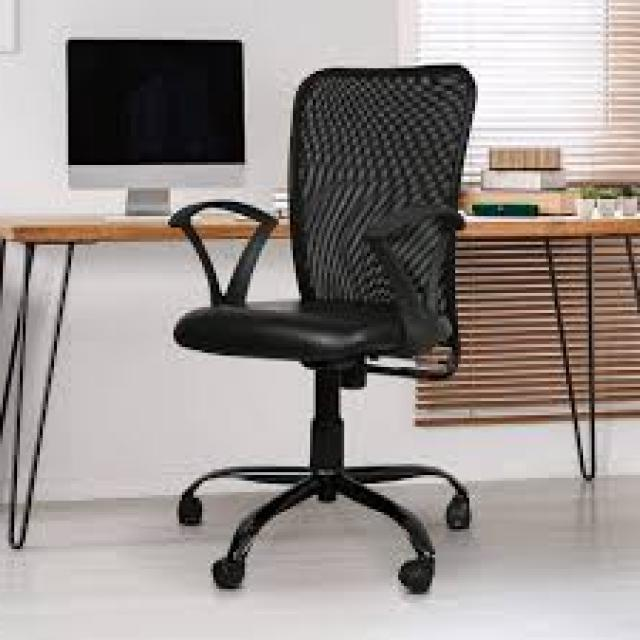chair: (145, 57, 519, 603)
